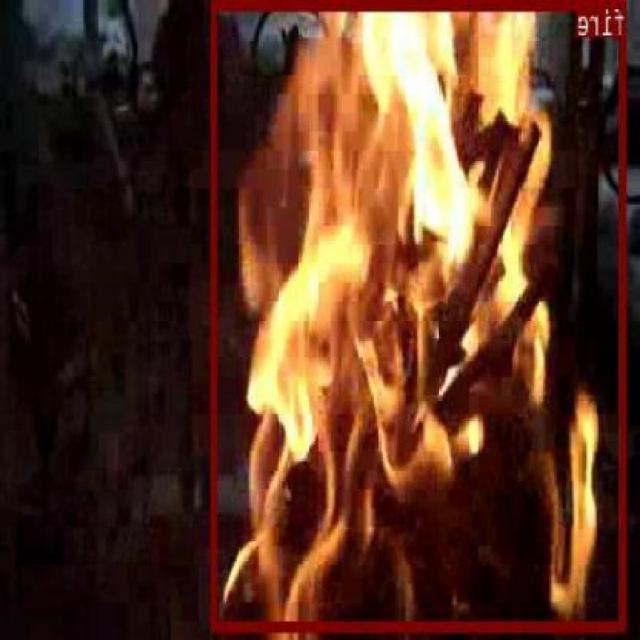Fire: (212, 0, 628, 631)
